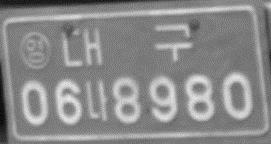0: (221, 71, 254, 121), (19, 78, 51, 126)
6: (53, 77, 84, 126)
8: (183, 73, 216, 122), (111, 76, 143, 124)
9: (147, 76, 180, 124)
나: (84, 78, 110, 124)
대구_D: (60, 21, 194, 71)
영: (19, 31, 52, 69)
